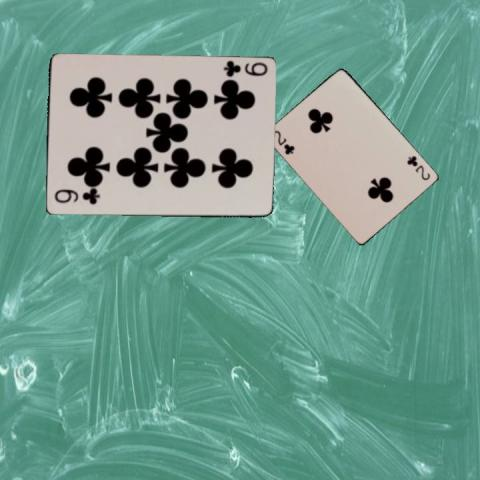2c: (404, 153, 432, 182), (269, 127, 296, 156)
9c: (220, 58, 269, 78), (51, 189, 102, 206)
